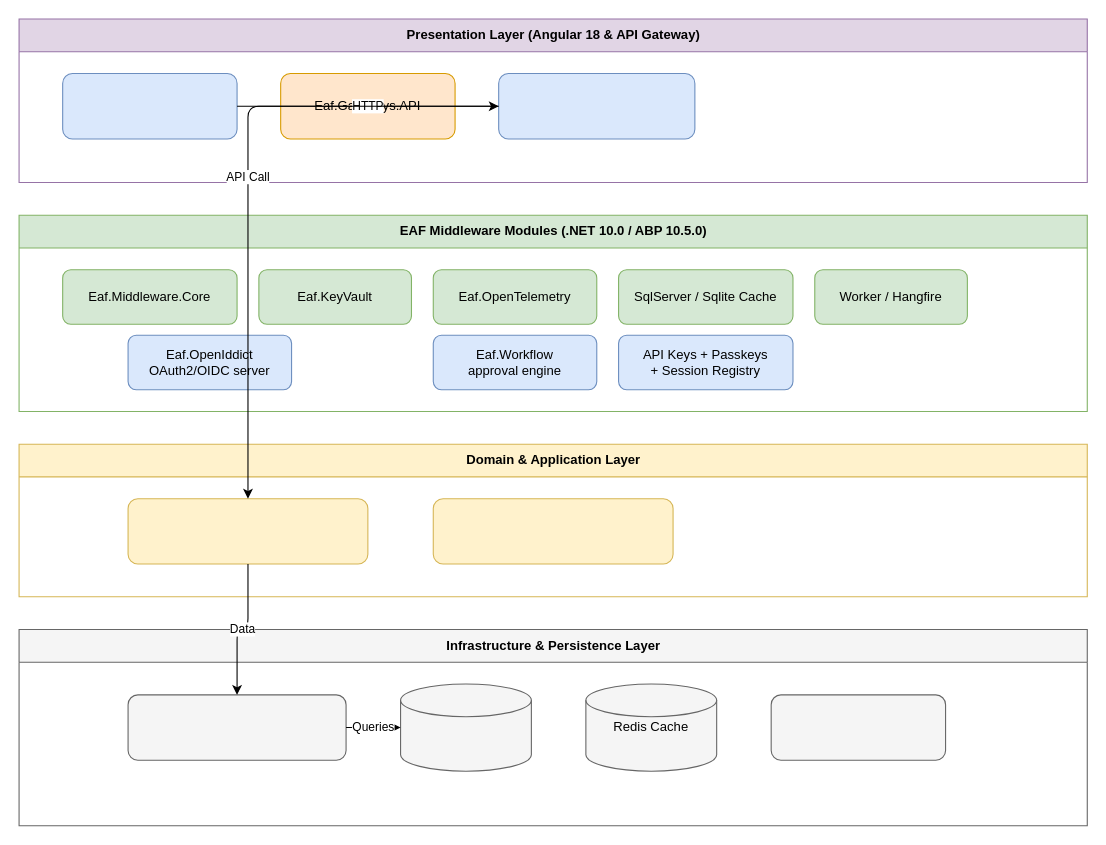
Some shapes in this 1106 by 845 pixel diagram are drawn without their labels. Each missing label, with the centre of its shape:
Angular 18 Admin UI: the point at 149,105
Application Services & DTOs: the point at 247,531
Azure / OCI Vault: the point at 858,727
Domain Services & Aggregates: the point at 552,531
Eaf.Web.Host (REST API): the point at 596,105
Entity Framework Core 10.0: the point at 236,727
SQL Server / SQLite: the point at 465,727
